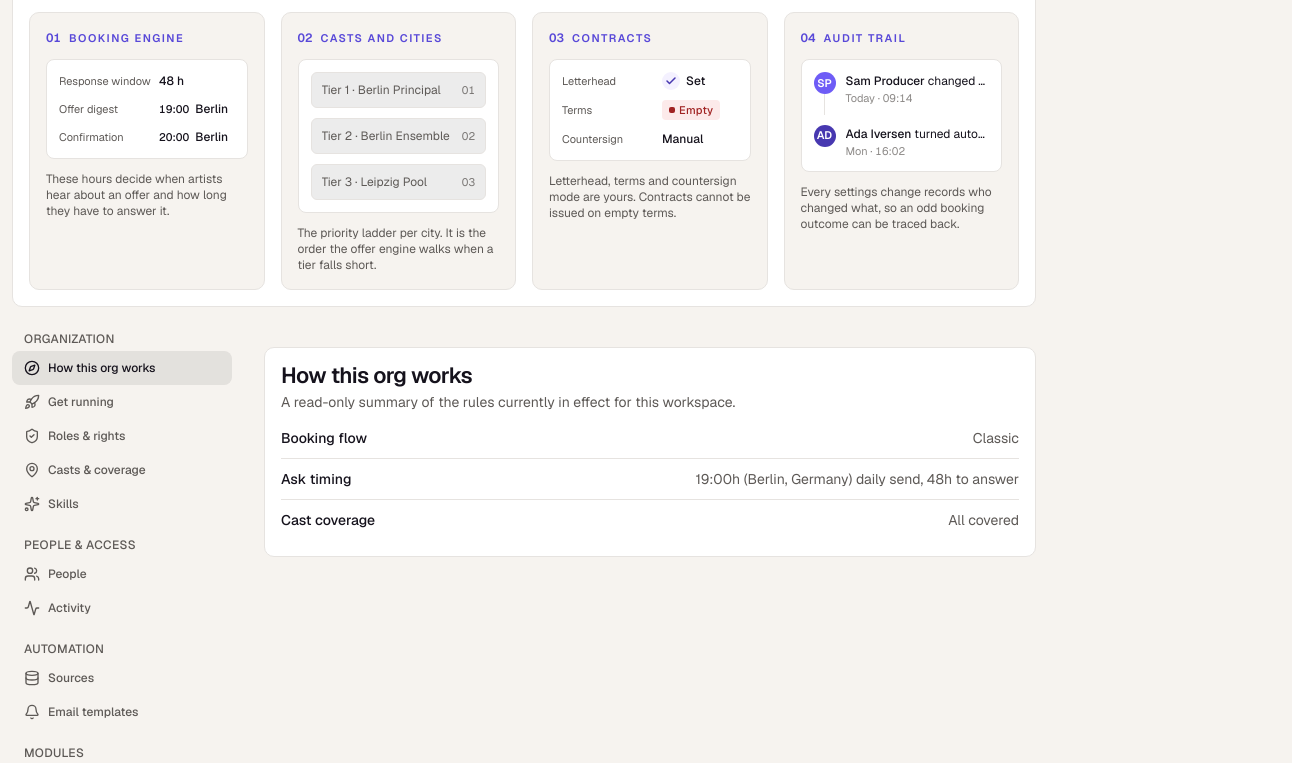
Test case: SettingsPage grouped vertical nav › places Email templates in Settings and renders its grouped coverage surface
Press the mouse on the tab "Email templates" at (122, 712), box [12,695,232,729]
(page scrolled)
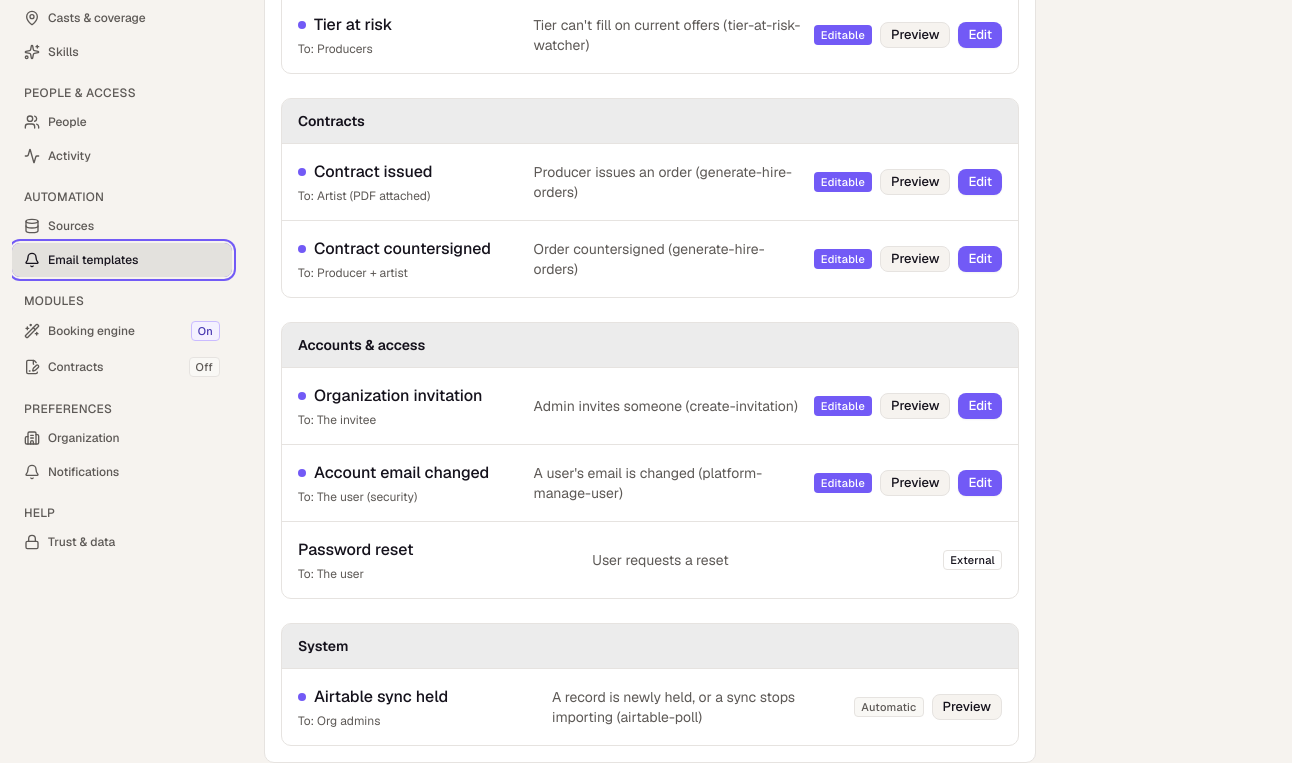
Now the text "Password reset" is shown, box [298,538,414,562]
